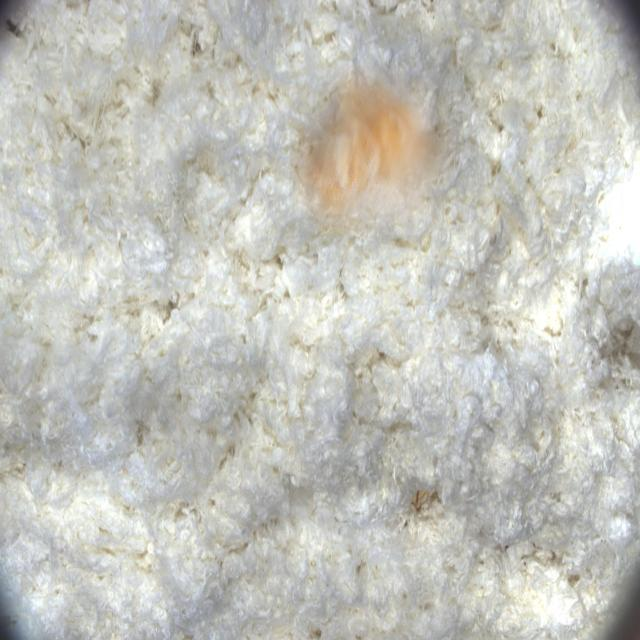dust: (290, 47, 463, 235)
